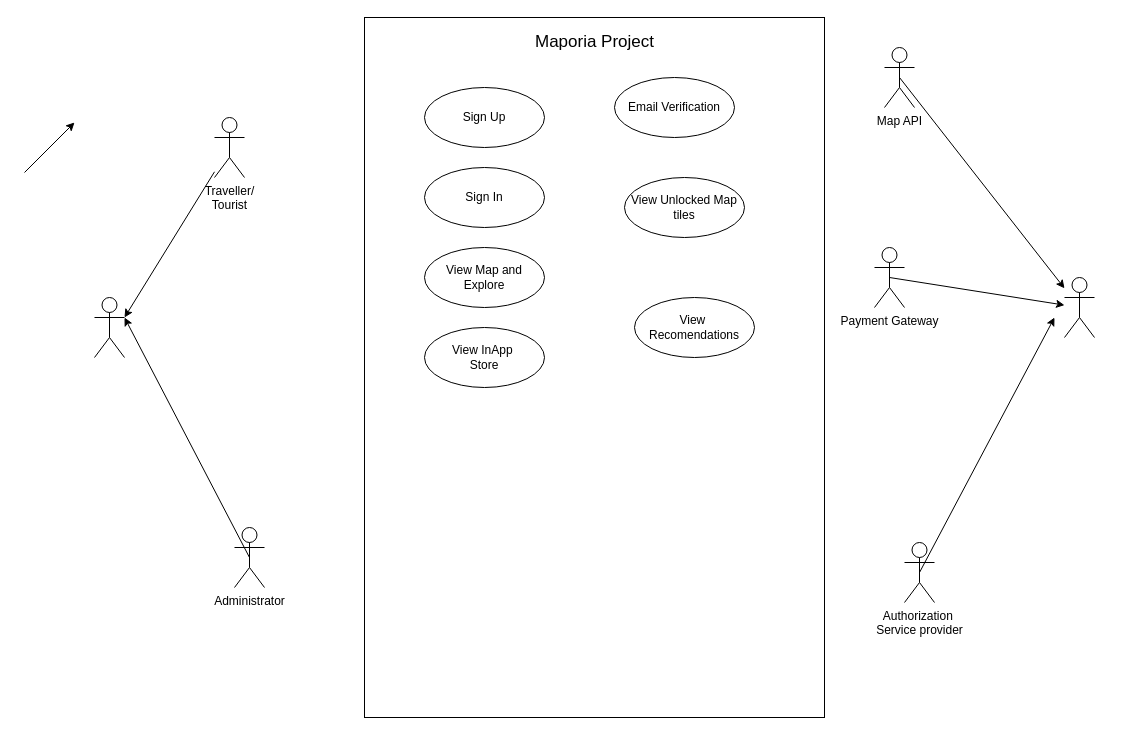
This 1140x735 diagram has some shape labels left out. Here are the shapes that lost their labels. From the top down, the centre of each, then its label:
At pixel 109 327: "Admin".
At pixel 1079 307: "External Service provider".
